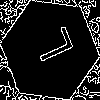L: (25, 25, 75, 68)
